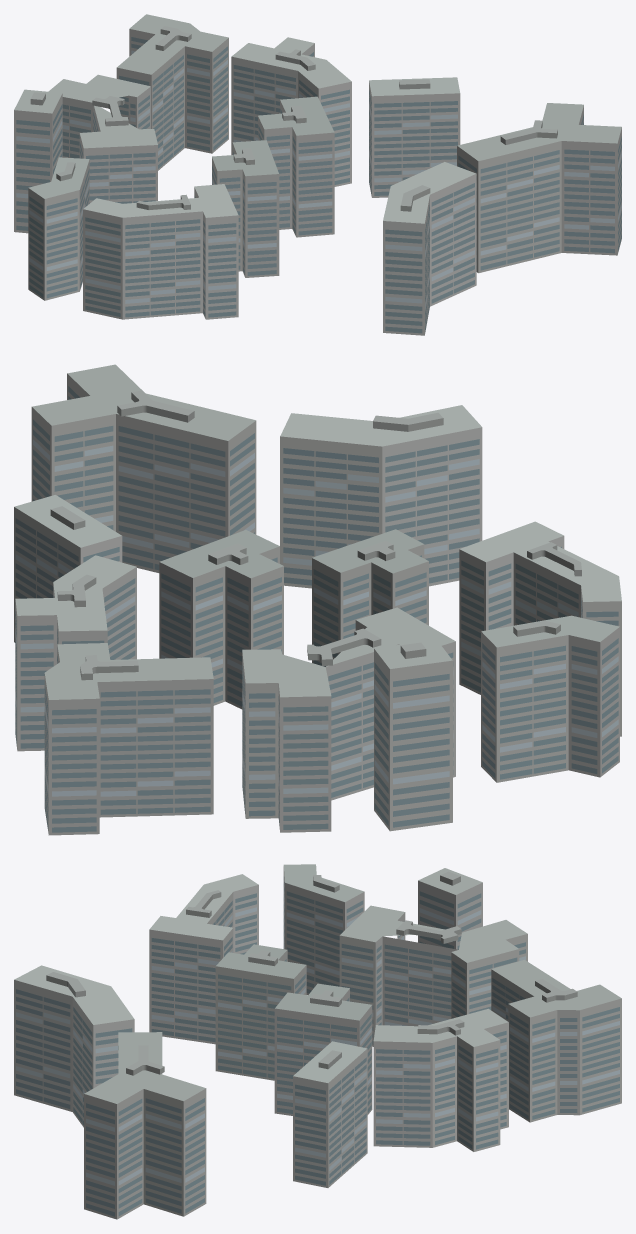
File: apt-a14280502.glb
3 renders of one model, top to bottom at view 1: azimuth 30°, elevation 25°; view 2: azimuth 150°, elevation 25°; view 3: azimuth 270°, elevation 25°, orthographic. The views are drawn at different scales.
Visible parts, largest first — view 1: apt-a14280502; view 2: apt-a14280502; view 3: apt-a14280502.
Boxes of the visible parts, box(x1,y1,x2,y2) form: apt-a14280502: box(14, 14, 621, 335); apt-a14280502: box(14, 364, 621, 835); apt-a14280502: box(14, 864, 621, 1219).
Bounding box in the file's own units: 195 × 47.81 × 200.
